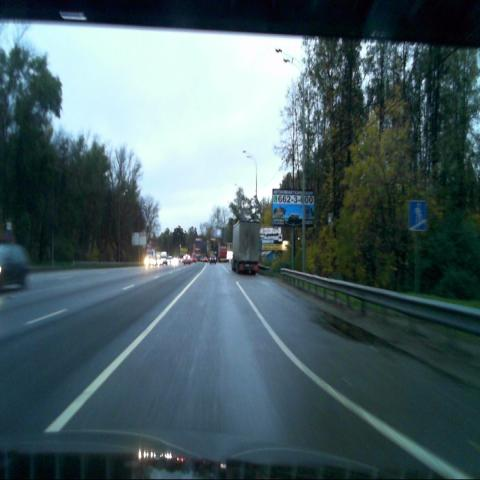6_7: (409, 200, 427, 231)
